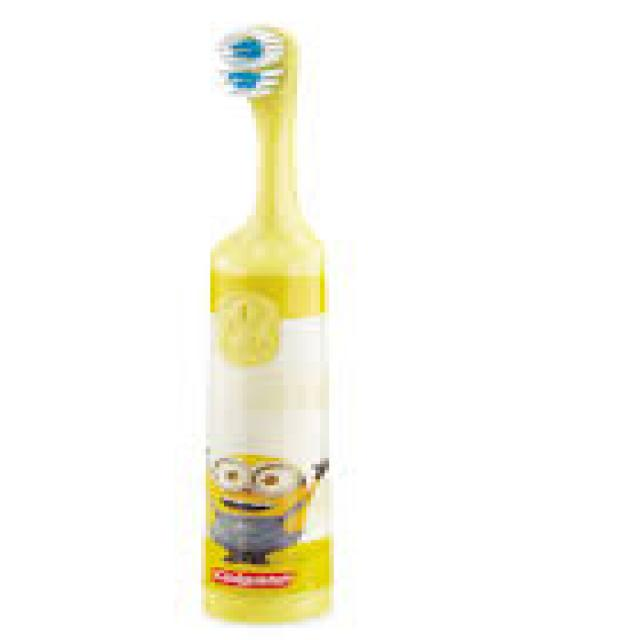organic: (179, 20, 359, 616)
